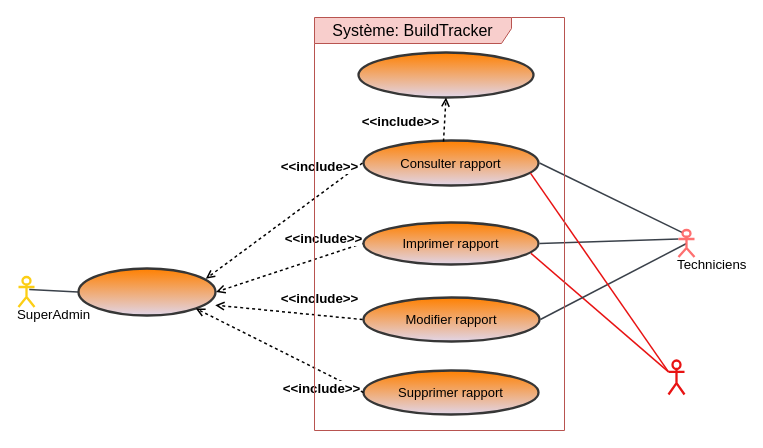
The diagram is 763 pixels wide and 448 high, and some of its shapes have lost their labels. Each missing label, with the centre of its shape:
client: (x=676, y=377)
Générer rapport: (x=445, y=74)
Gérer rapports: (x=146, y=291)
